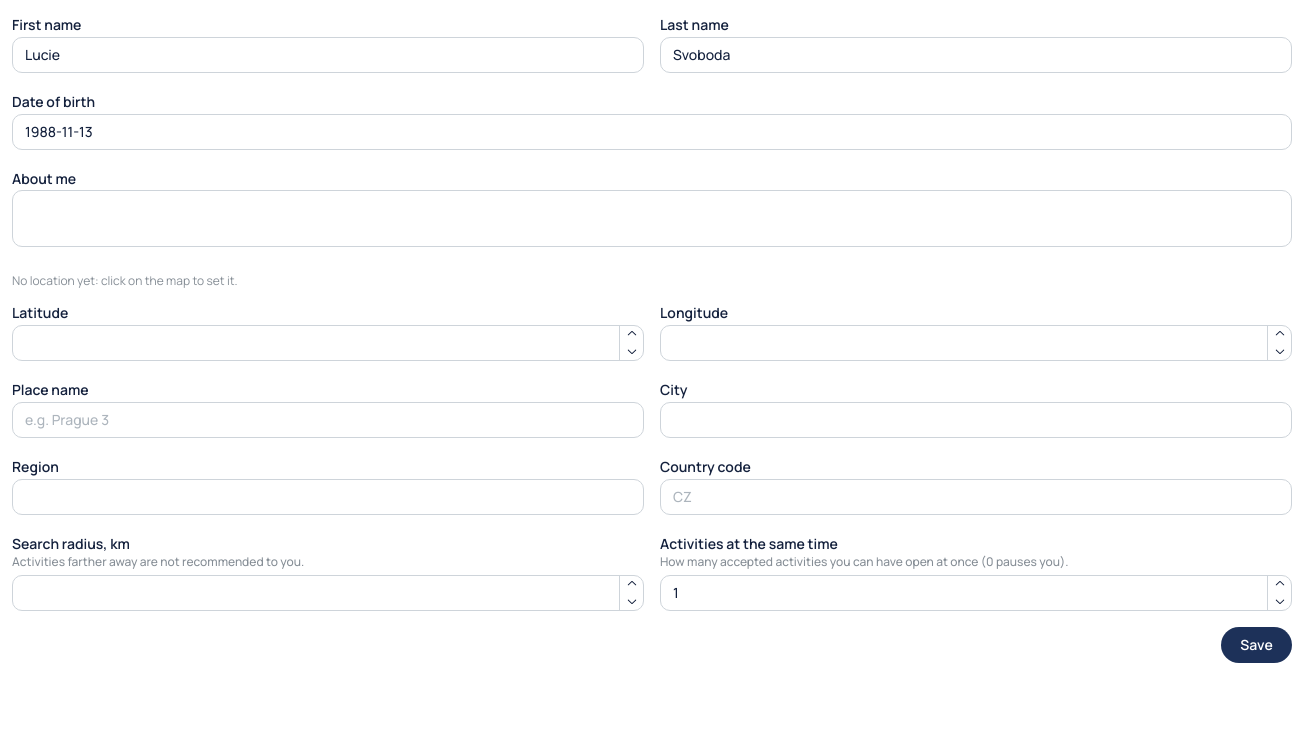
Test: BasicProfileForm › keeps the radius within 1 … 500 km
Type "600" into the field labelled "Search radius, km" at [328, 593], box 12,575 -> 644,611
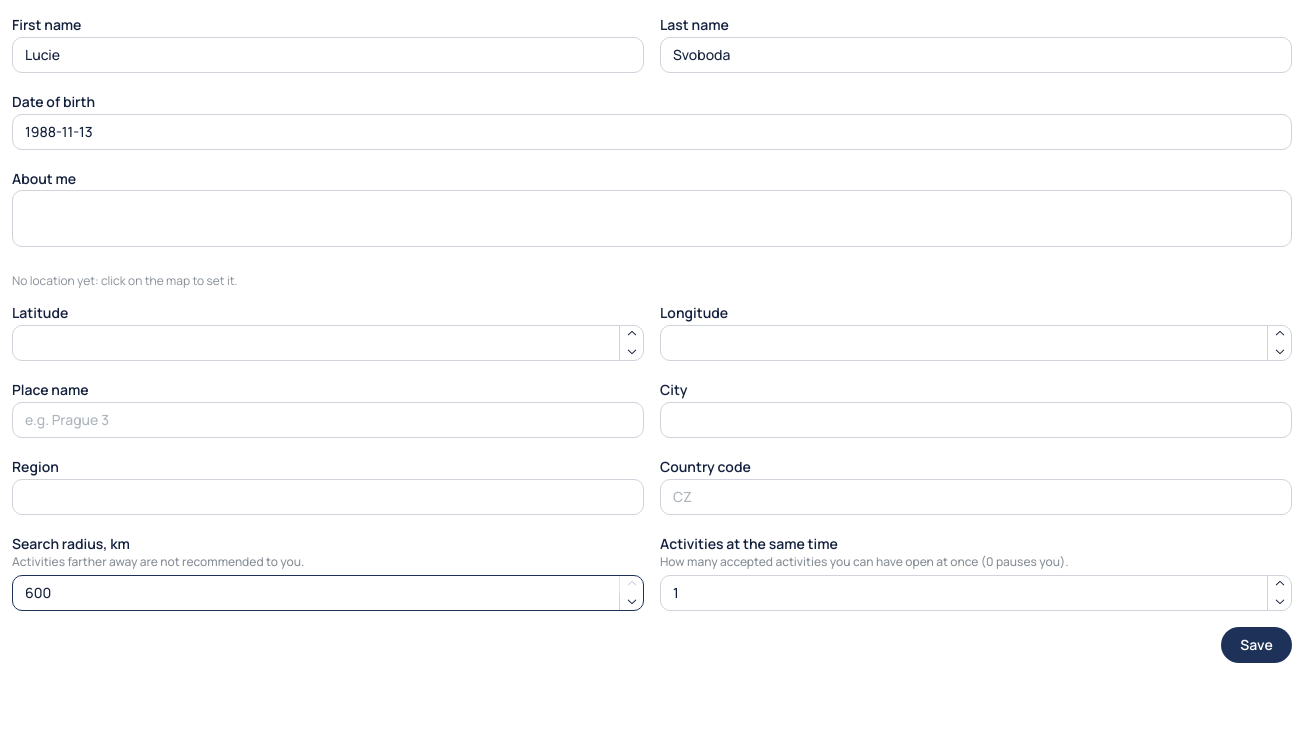
Press Tab
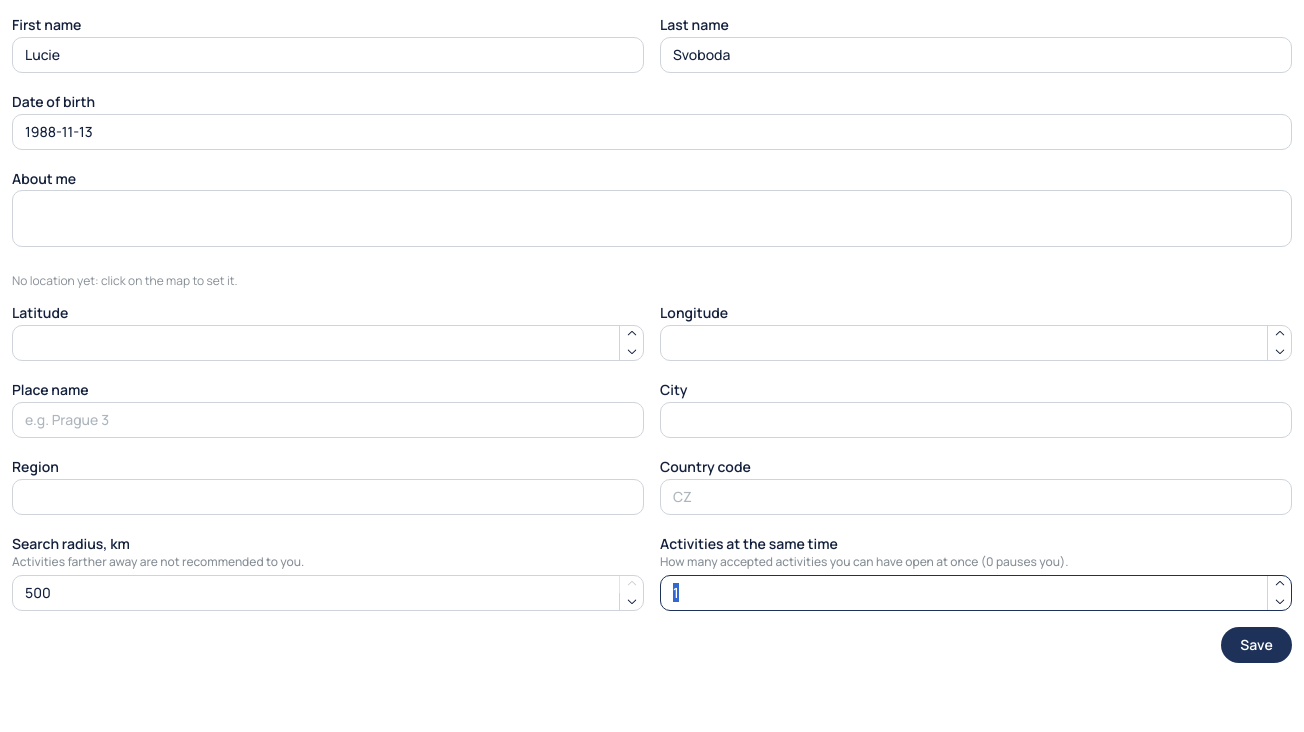
Expected: the field labelled "Search radius, km" holds "500", 12,575 -> 644,611
